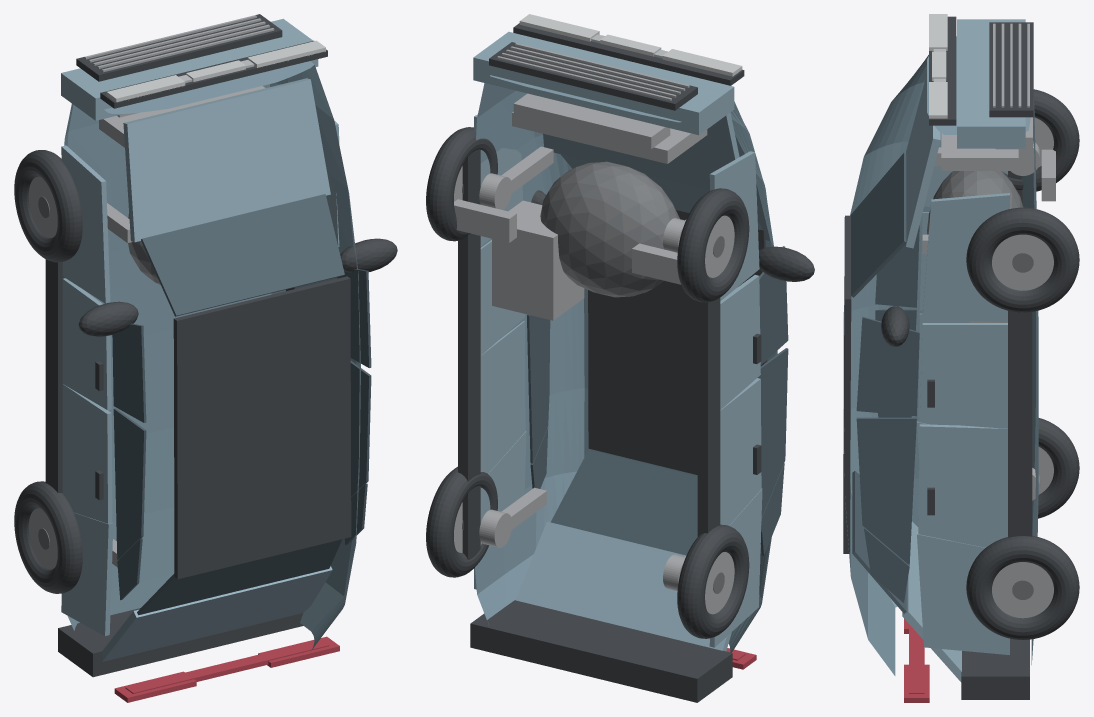
The model's file is fiat-grizzly-catalog.glb.
3 views of the same model, side by side, from view 1: azimuth 30°, elevation 25°; view 2: azimuth 150°, elevation 25°; view 3: azimuth 270°, elevation 25° (orthographic). The views are drawn at different scales.
Visible parts, largest first — view 1: roof, body_shell, hood, windshield, trunk, door_rear_left, rear_glass, rear_bumper, tire_front_left, tire_rear_left, front_fender_left, front_bumper (+29 smaller); view 2: body_shell, roof, rear_bumper, trunk, mechanical_engine, rear_glass, front_bumper, rocker_right, mechanical_transmission, rocker_left, door_rear_right, tire_front_left (+38 smaller); view 3: body_shell, door_rear_right, door_front_right, front_fender_right, rear_side_glass_right, tire_front_right, tire_rear_right, rear_quarter_right, rocker_right, front_bumper, windshield, front_side_glass_right (+29 smaller).
Boxes of the visible parts, x1=… form: roof: x1=173, y1=276, x2=351, y2=579; body_shell: x1=64, y1=61, x2=360, y2=650; hood: x1=123, y1=78, x2=330, y2=242; windshield: x1=141, y1=194, x2=344, y2=316; trunk: x1=102, y1=566, x2=332, y2=661; door_rear_left: x1=62, y1=384, x2=112, y2=523; rear_glass: x1=137, y1=539, x2=342, y2=615; rear_bumper: x1=58, y1=608, x2=303, y2=677; tire_front_left: x1=14, y1=150, x2=82, y2=262; tire_rear_left: x1=14, y1=481, x2=82, y2=593; front_fender_left: x1=61, y1=145, x2=110, y2=303; front_bumper: x1=61, y1=18, x2=318, y2=120; body_shell: x1=475, y1=75, x2=777, y2=652; roof: x1=588, y1=210, x2=767, y2=474; rear_bumper: x1=470, y1=600, x2=732, y2=702; trunk: x1=515, y1=521, x2=731, y2=651; mechanical_engine: x1=540, y1=161, x2=679, y2=297; rear_glass: x1=551, y1=450, x2=697, y2=555; front_bumper: x1=473, y1=31, x2=734, y2=135; rocker_right: x1=458, y1=149, x2=480, y2=559; mechanical_transmission: x1=492, y1=200, x2=584, y2=320; rocker_left: x1=697, y1=298, x2=720, y2=536; door_rear_right: x1=480, y1=321, x2=525, y2=473; tire_front_left: x1=677, y1=188, x2=749, y2=302; body_shell: x1=843, y1=36, x2=1038, y2=675; door_rear_right: x1=918, y1=424, x2=1007, y2=547; door_front_right: x1=919, y1=323, x2=1007, y2=428; front_fender_right: x1=922, y1=193, x2=1009, y2=322; rear_side_glass_right: x1=856, y1=417, x2=916, y2=565; tire_front_right: x1=966, y1=207, x2=1079, y2=312; tire_rear_right: x1=966, y1=536, x2=1079, y2=639; rear_quarter_right: x1=917, y1=532, x2=1009, y2=654; rocker_right: x1=1008, y1=310, x2=1032, y2=537; front_bumper: x1=957, y1=19, x2=1025, y2=148; windshield: x1=851, y1=153, x2=906, y2=297; front_side_glass_right: x1=856, y1=316, x2=919, y2=416.
Size of the model in its own units: 2.52 by 4.52 by 1.65.
